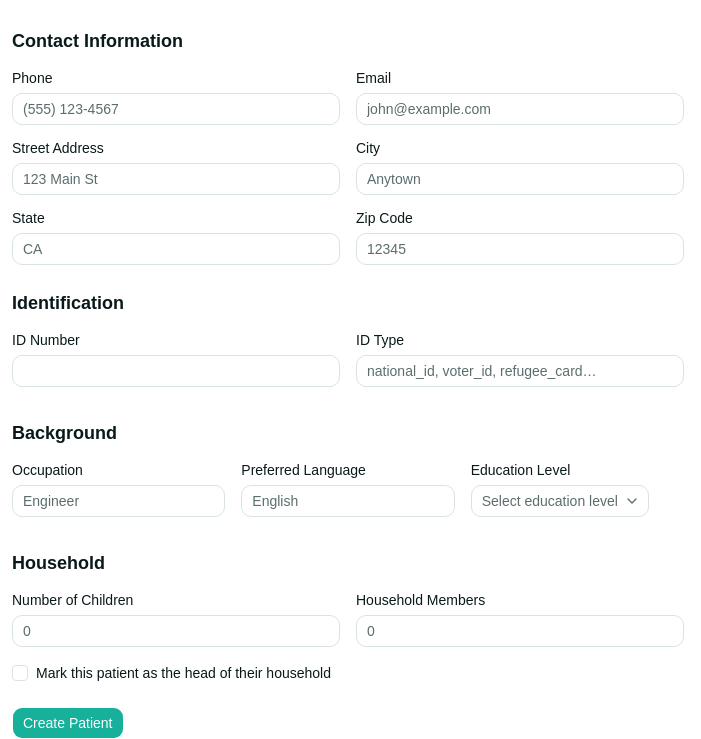
PatientForm › shows validation errors for empty required fields on submit
(page scrolled)
Click the button "Create Patient".
click(68, 723)  # box 12,707 -> 124,738
(page scrolled)
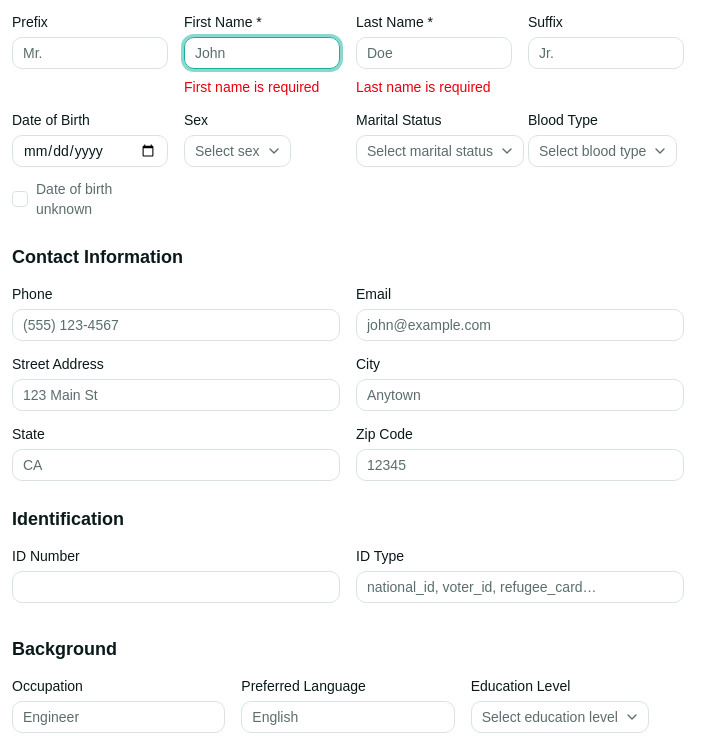
Result: the text "First name is required" is shown at 184,77 -> 340,97
Result: the text "Last name is required" is shown at 356,77 -> 512,97
